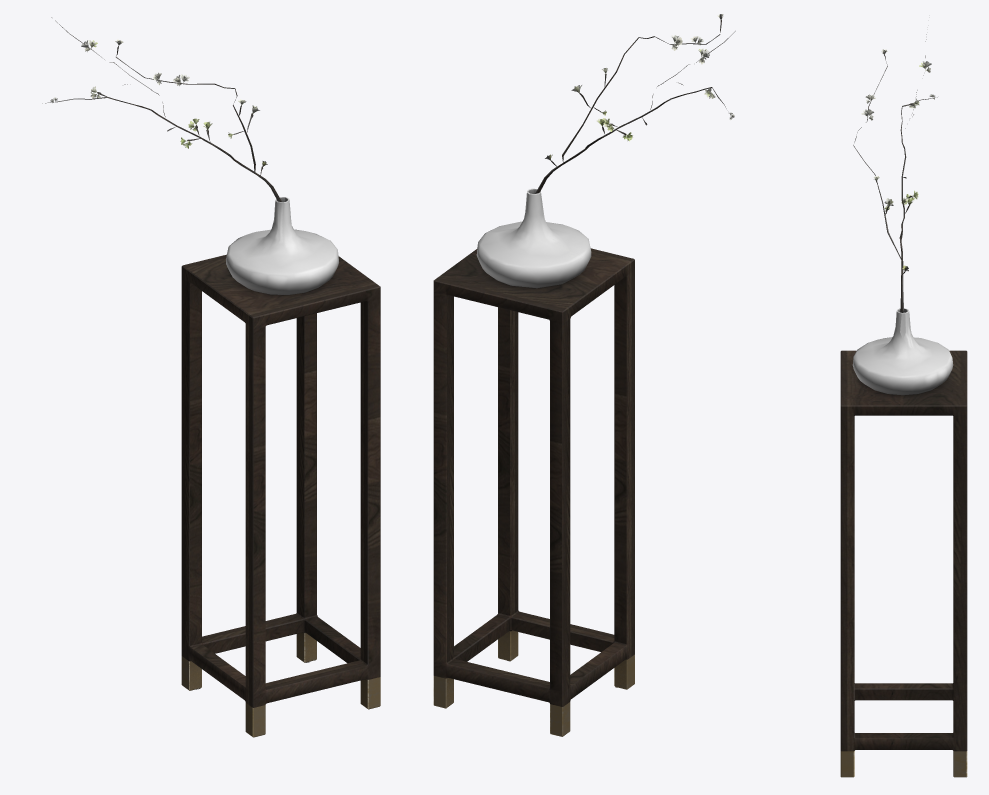
Rendered from raw_model.obj.
3 views of the same model, side by side, from view 1: azimuth 30°, elevation 25°; view 2: azimuth 150°, elevation 25°; view 3: azimuth 270°, elevation 25° (orthographic). The views are drawn at different scales.
Parts seen in each view (by area): view 1: solid_002, solid_004, solid_001, solid_005, glass_001; view 2: solid_002, solid_004, solid_001, solid_005, glass_001; view 3: solid_002, solid_004, solid_005, solid_001, glass_001.
Boxes of the visible parts, x1,y1,x2,y2 form: solid_002: (181,254,380,707); solid_004: (226,197,338,294); solid_001: (181,632,380,737); solid_005: (42,17,281,201); glass_001: (50,39,267,166); solid_002: (433,248,634,706); solid_004: (476,188,591,288); solid_001: (433,630,634,736); solid_005: (535,19,735,193); glass_001: (545,14,734,160); solid_002: (840,350,967,751); solid_004: (852,308,953,395); solid_005: (853,34,937,312); solid_001: (840,751,967,777); glass_001: (861,49,935,271).
Bounding box in the file's own units: 0.6831 × 1.59 × 0.3178.
1 material, 1 textured.
